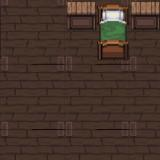Hide: (97, 1, 130, 61)
Obstacle: (65, 0, 97, 31), (131, 0, 160, 33)
